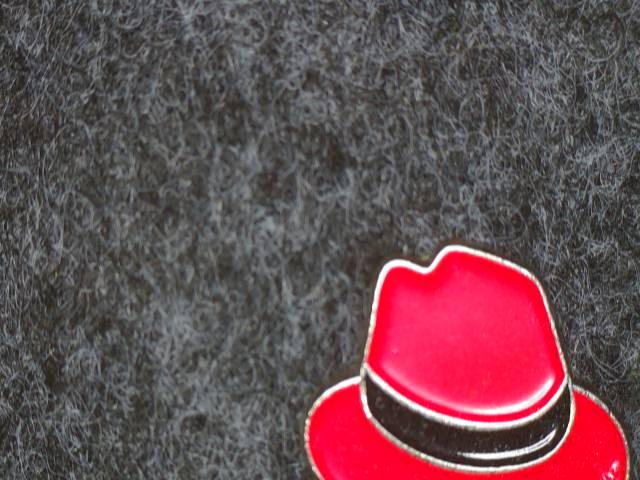Red-Hat: (255, 222, 640, 480)
